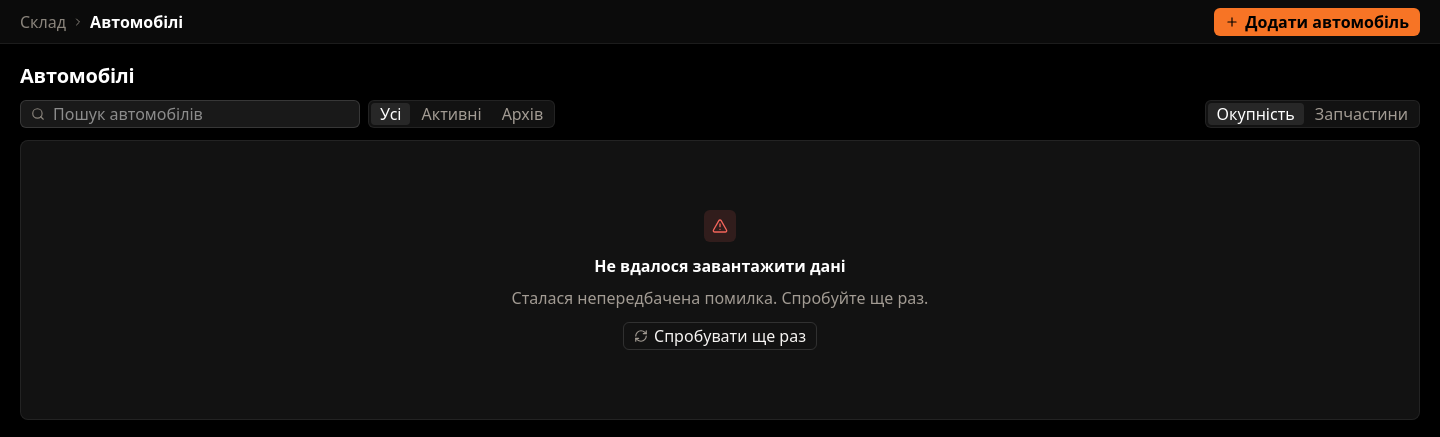
Test: replaces the list with an error and loads it again on retry
This screenshot has width=1440, height=437.
Click the button "Спробувати ще раз" at [720, 336], box [623, 322, 817, 350]
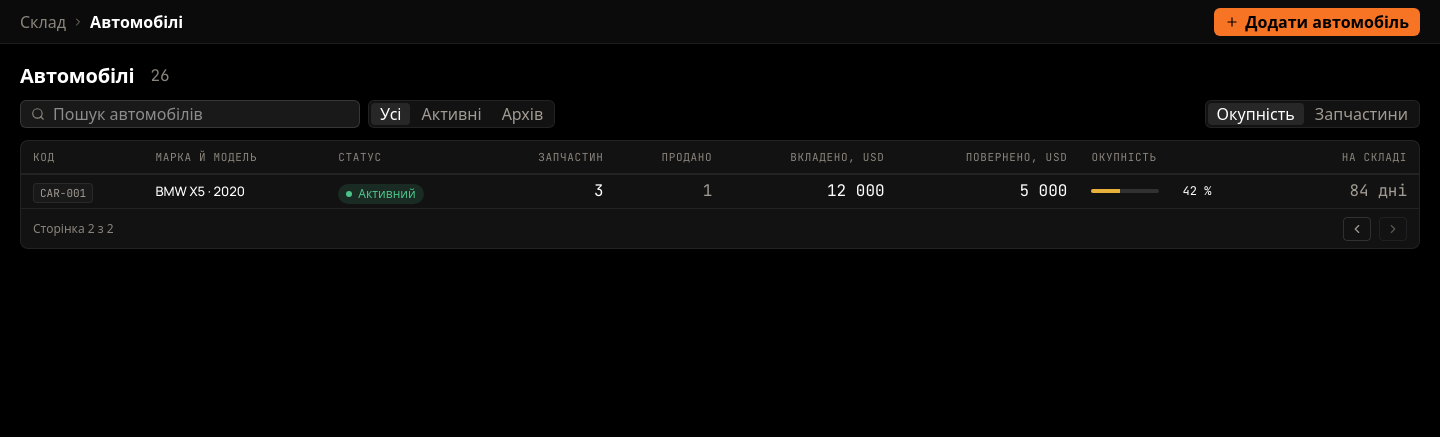
Check: the table named "Список автомобілів" is shown, box [21, 141, 1419, 208]
